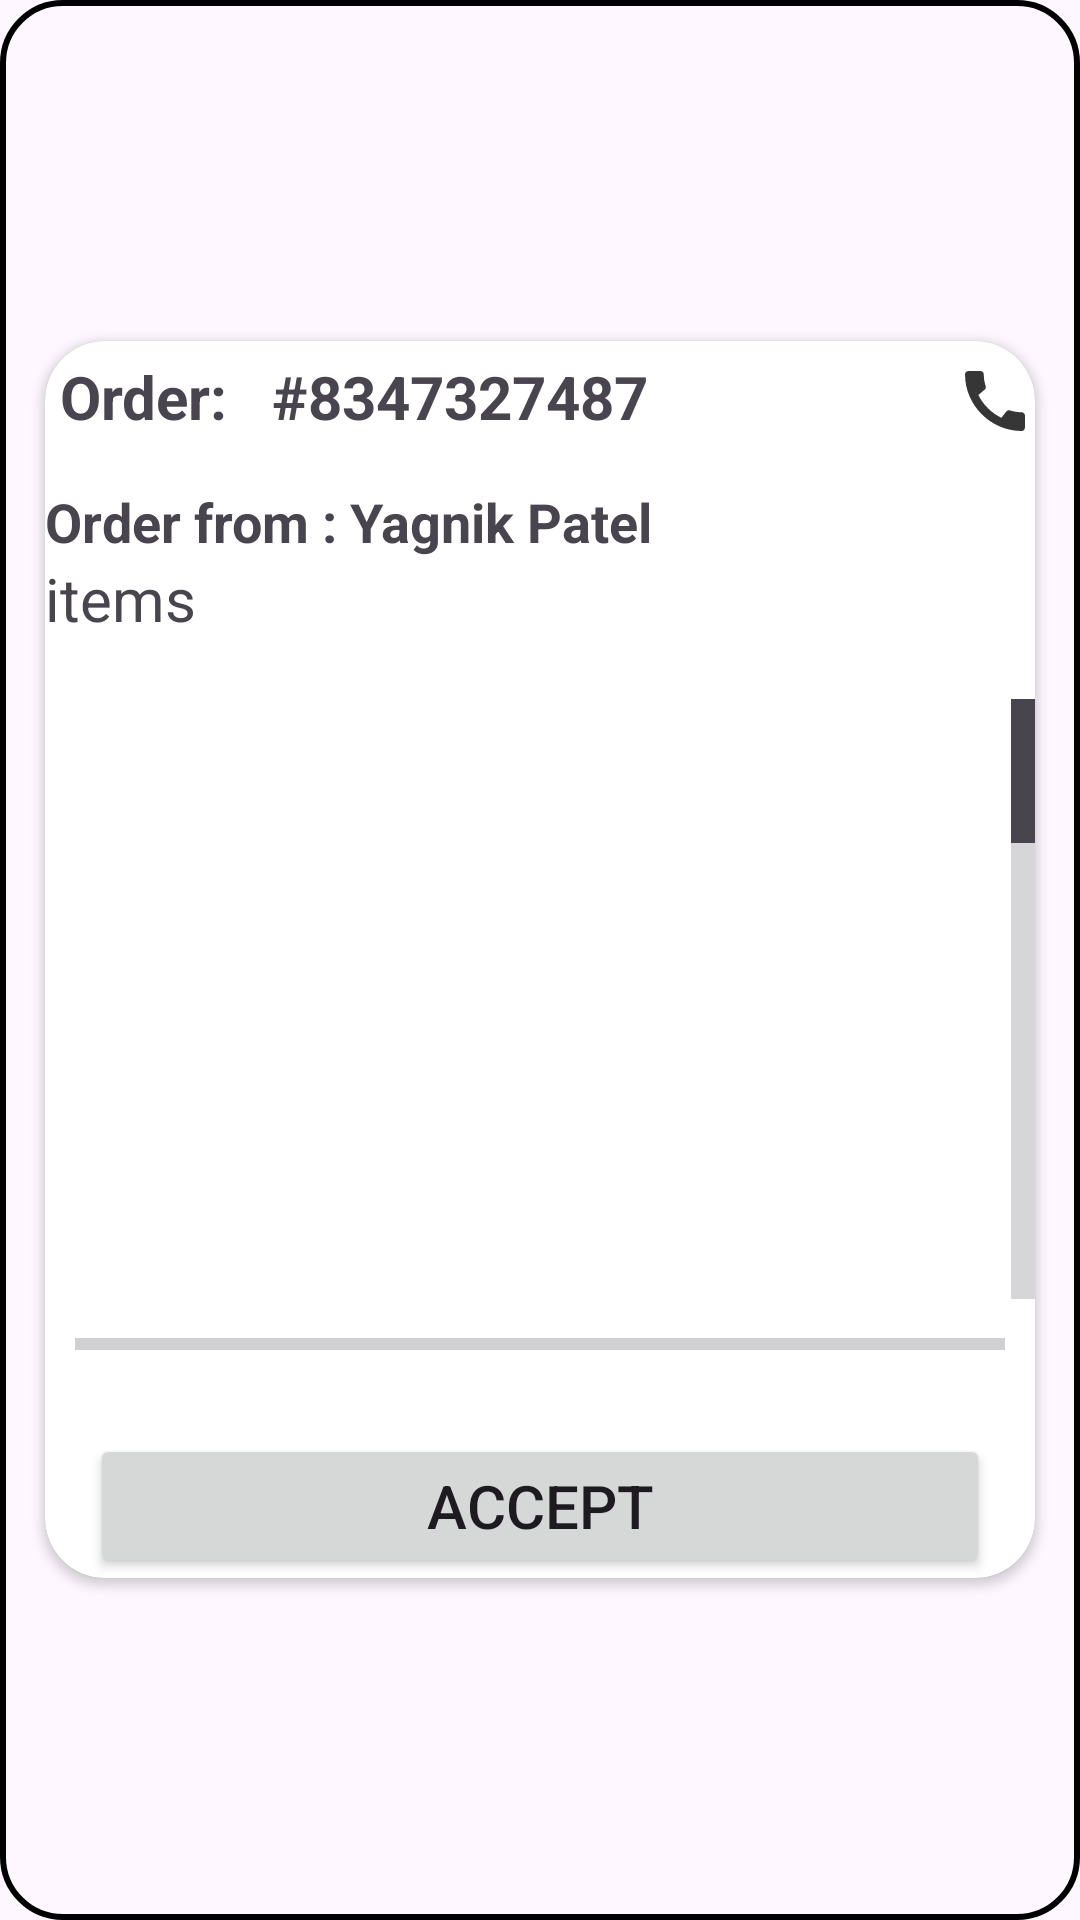

Icon bounding boxes for this 1080px×1920px phone screenshot, format (x1, y1, x2, y2):
call: (965, 371, 1025, 431)
